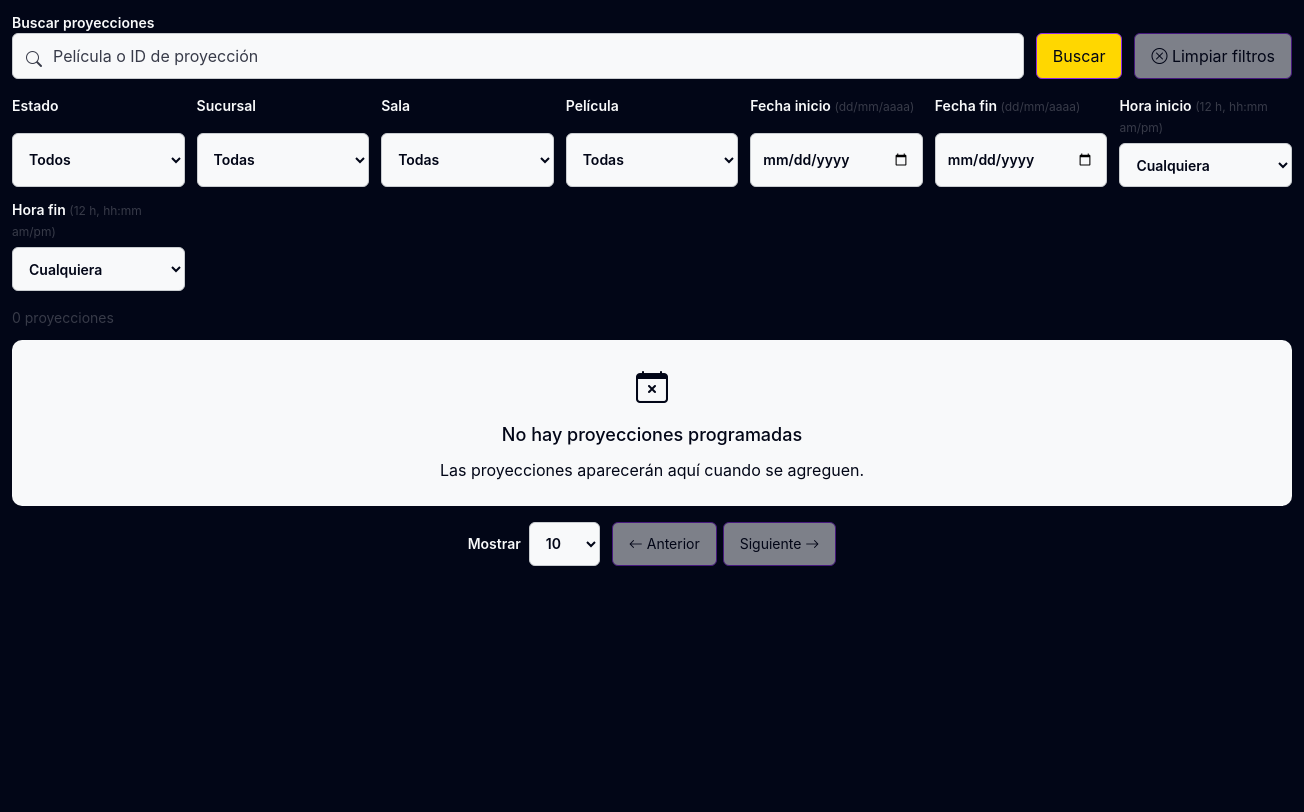
Test: ProjectionListPanel › distinguishes an empty schedule from filters without matches
Expected: the heading "No hay proyecciones programadas" is shown, [502,424,802,445]
Expected: the message with class "result-count" reads "0 proyecciones", [12,309,114,326]
Select "Cancelada" in the dropdown labelled "Estado" at (98, 160), box [12,132,185,187]
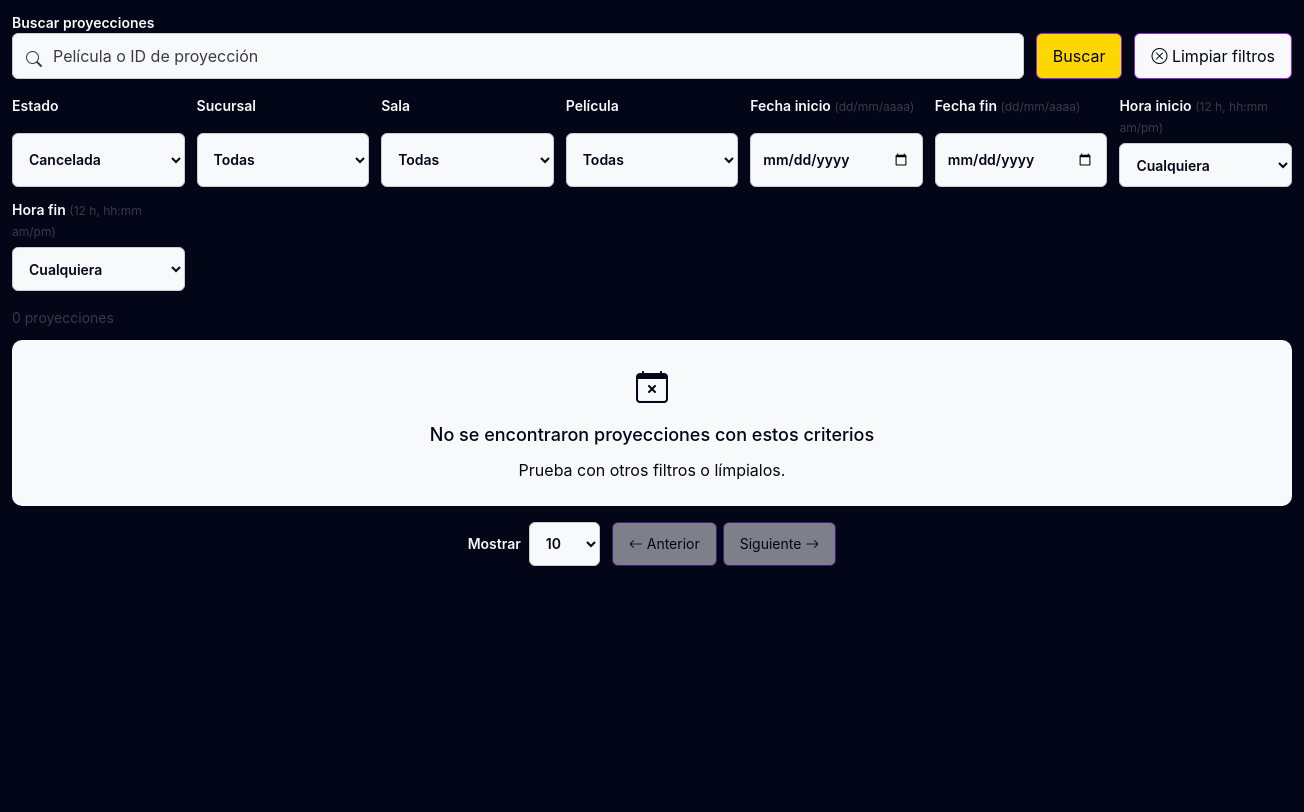
Now the heading "No se encontraron proyecciones con estos criterios" is shown, box [430,424,874,445]
